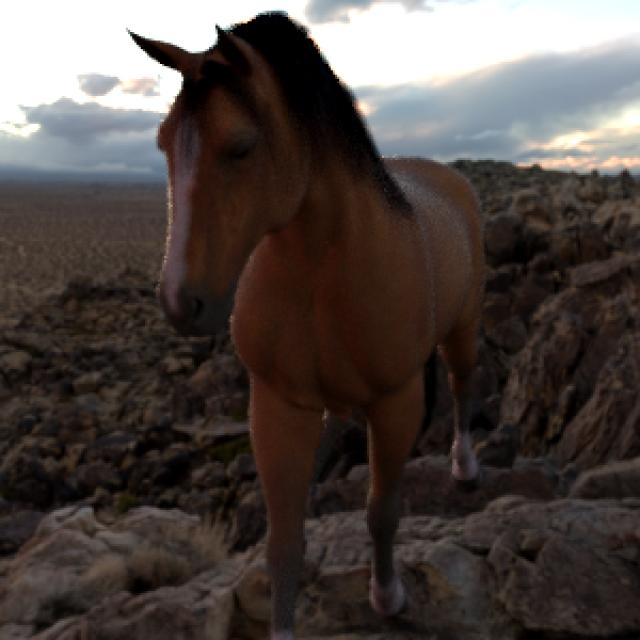horse: (131, 12, 482, 639)
